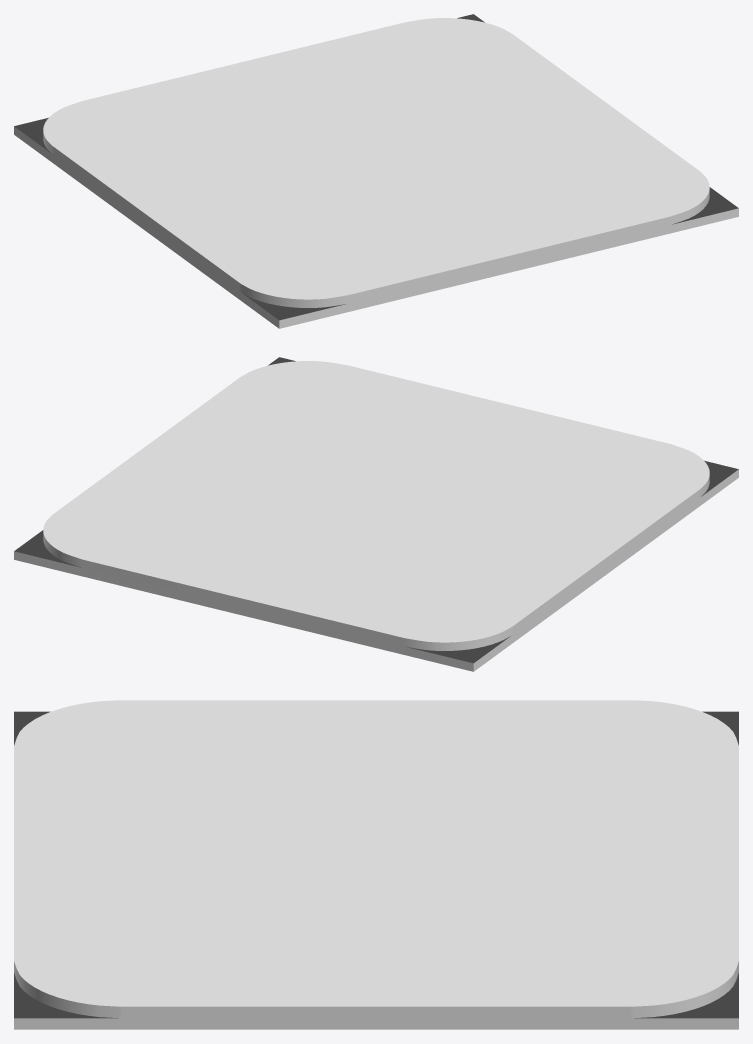
Rendered from pavement intersection circle.fbx.
The picture shows the model from 3 angles, top to bottom: view 1: azimuth 30°, elevation 25°; view 2: azimuth 150°, elevation 25°; view 3: azimuth 270°, elevation 25°; orthographic projection. The views are drawn at different scales.
Parts seen in each view (by area): view 1: pavement_intersection_circle; view 2: pavement_intersection_circle; view 3: pavement_intersection_circle.
Part boxes in pixels (bbox=[...]): pavement_intersection_circle: bbox=[14, 14, 738, 328]; pavement_intersection_circle: bbox=[14, 357, 738, 671]; pavement_intersection_circle: bbox=[14, 700, 738, 1029].
Bounding box in the file's own units: 1000 × 35.23 × 1000.
